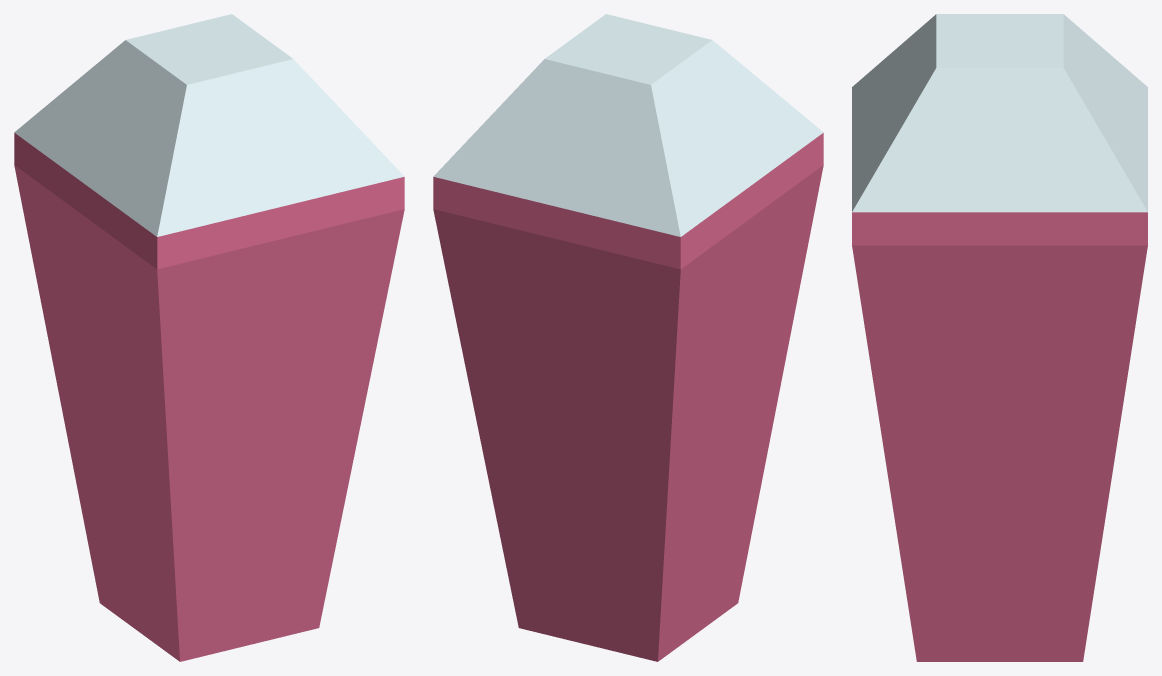
The model's file is d_kenney_cristal_givre.glb.
The picture shows the model from 3 angles, left to right: view 1: azimuth 30°, elevation 25°; view 2: azimuth 150°, elevation 25°; view 3: azimuth 270°, elevation 25°; orthographic projection. The views are drawn at different scales.
Visible parts, largest first — view 1: d_kenney_cristal_givre; view 2: d_kenney_cristal_givre; view 3: d_kenney_cristal_givre.
Part boxes in pixels (x1=…): d_kenney_cristal_givre: x1=14, y1=14, x2=404, y2=661; d_kenney_cristal_givre: x1=433, y1=14, x2=823, y2=661; d_kenney_cristal_givre: x1=852, y1=14, x2=1147, y2=661.
Size of the model in its own units: 0.1602 by 0.35 by 0.1602.
1 material, 1 textured.
